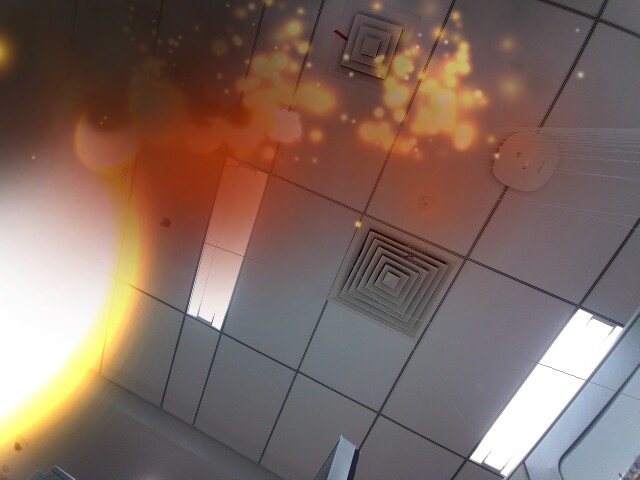fire: (83, 114, 125, 157), (188, 116, 213, 143), (228, 116, 250, 141)
firebig: (0, 125, 57, 356)
